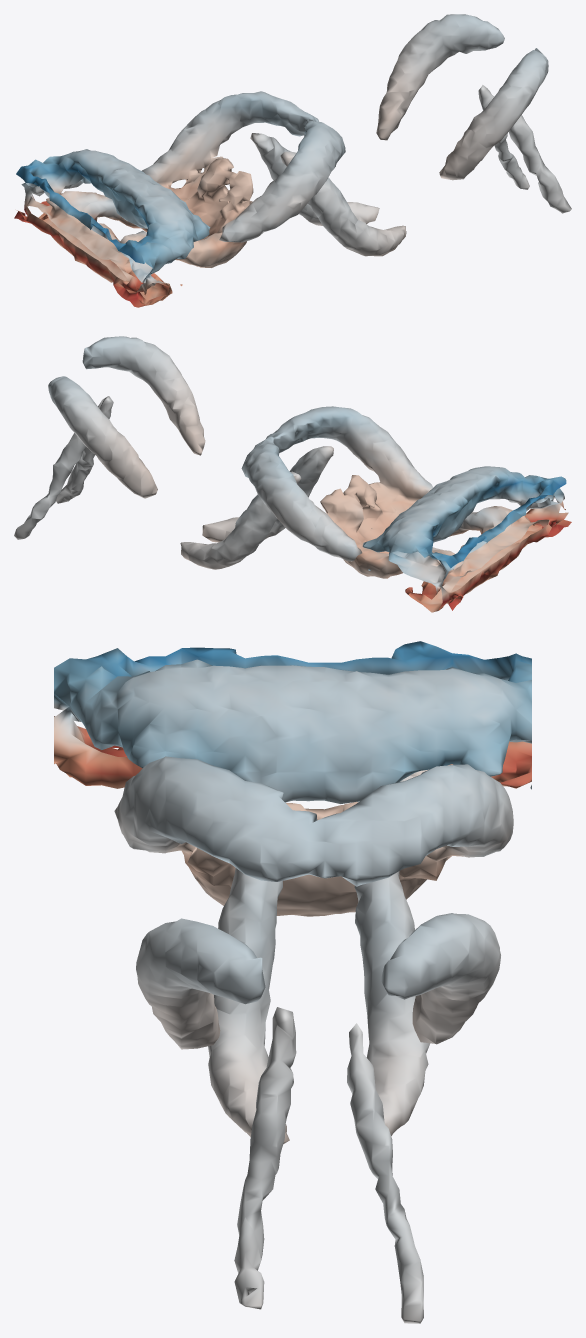
The picture shows the model from 3 angles, top to bottom: view 1: azimuth 30°, elevation 25°; view 2: azimuth 150°, elevation 25°; view 3: azimuth 270°, elevation 25°; orthographic projection. The views are drawn at different scales.
Bounding box in the file's own units: 5.65 × 2.02 × 2.5.
